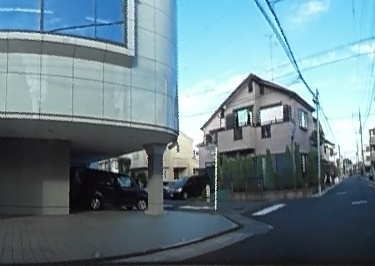person: (325, 169, 331, 189)
